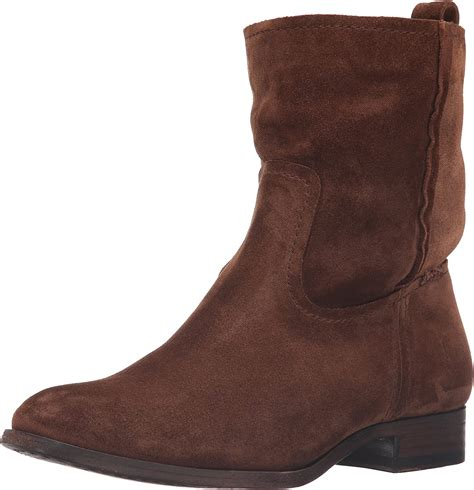gamuza: (7, 2, 474, 473)
